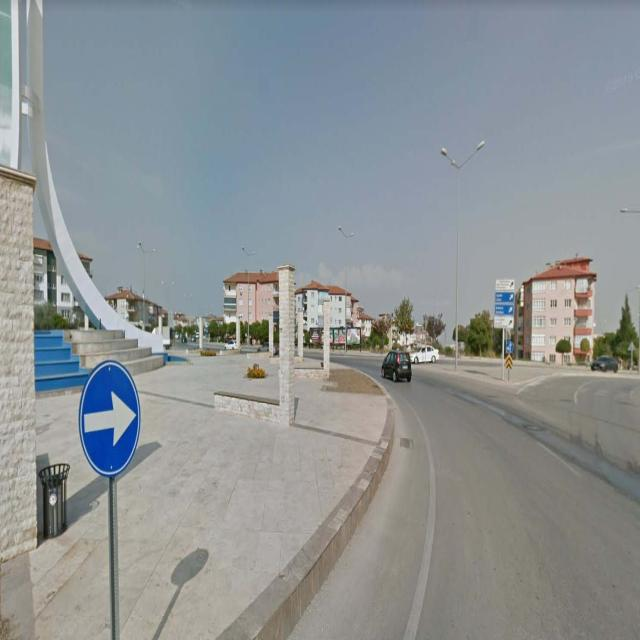ilerisol: (506, 341, 514, 354)
sag: (80, 361, 138, 465)
